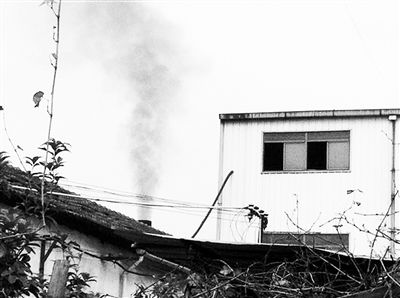dust: (119, 99, 170, 223)
